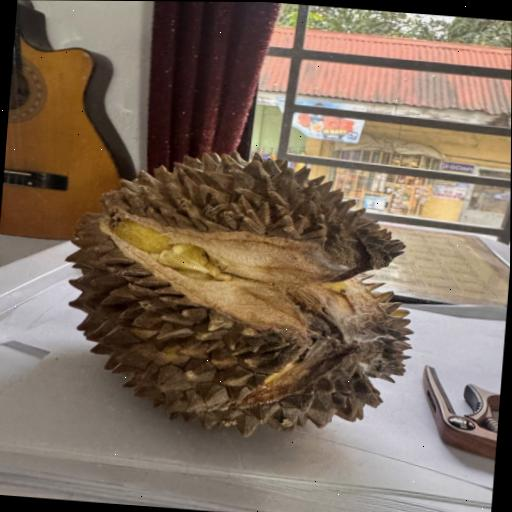rot: (25, 95, 472, 459)
